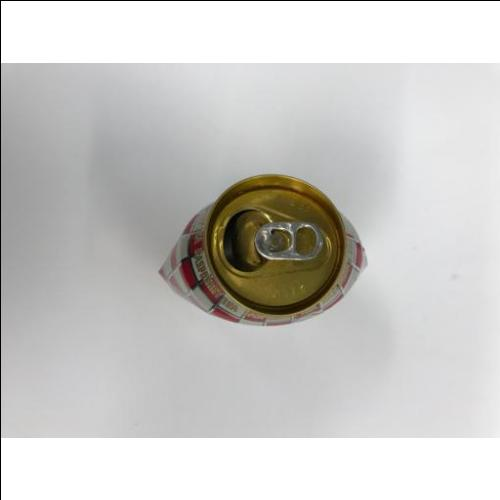metal: (159, 173, 368, 327)
